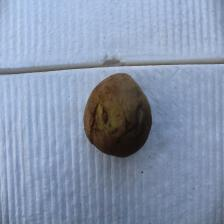Diseased-fungal potato: (82, 63, 154, 164)
